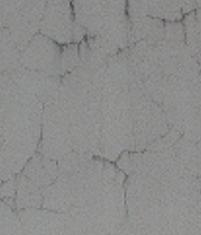fissura: (2, 1, 196, 219)
